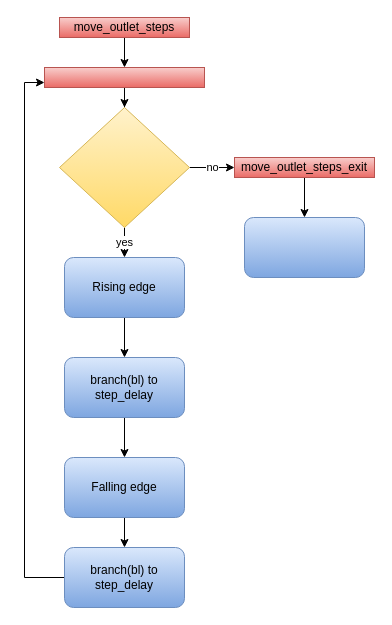
The diagram is 392 pixels wide and 625 high, and some of its shapes have lost their labels. Each missing label, with the centre of its shape:
"move_outlet_steps_loop" goes at [124,77].
"Steps left?" goes at [124,167].
"Update outlet position" goes at [304,247].
